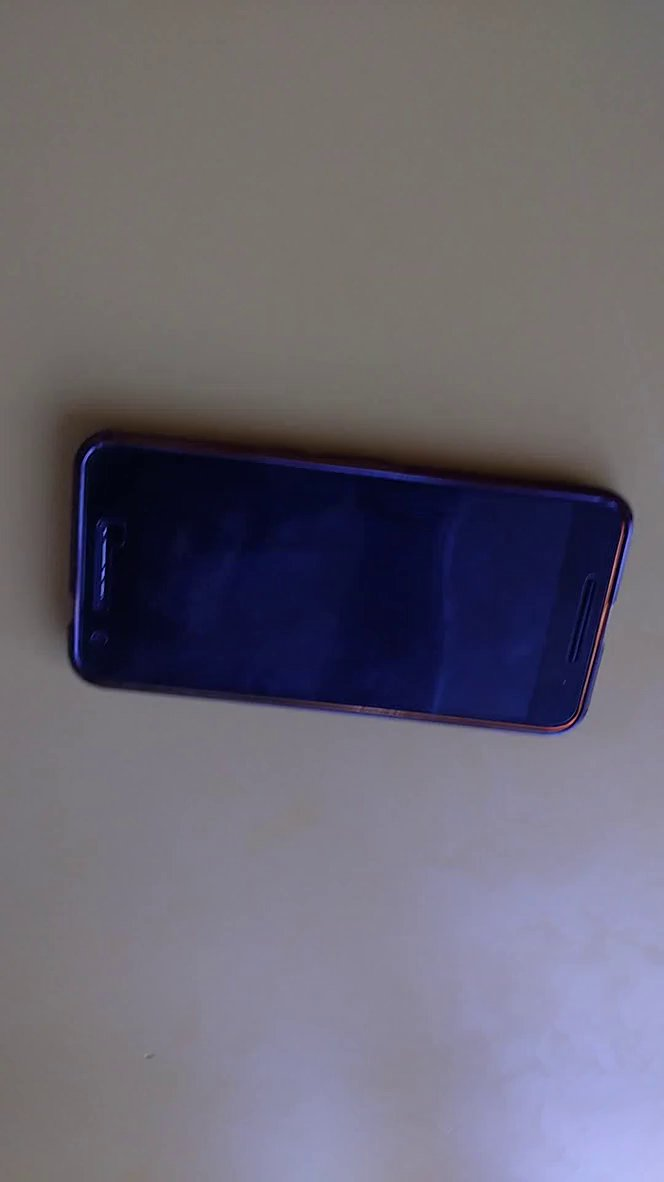phone: (62, 414, 644, 752)
